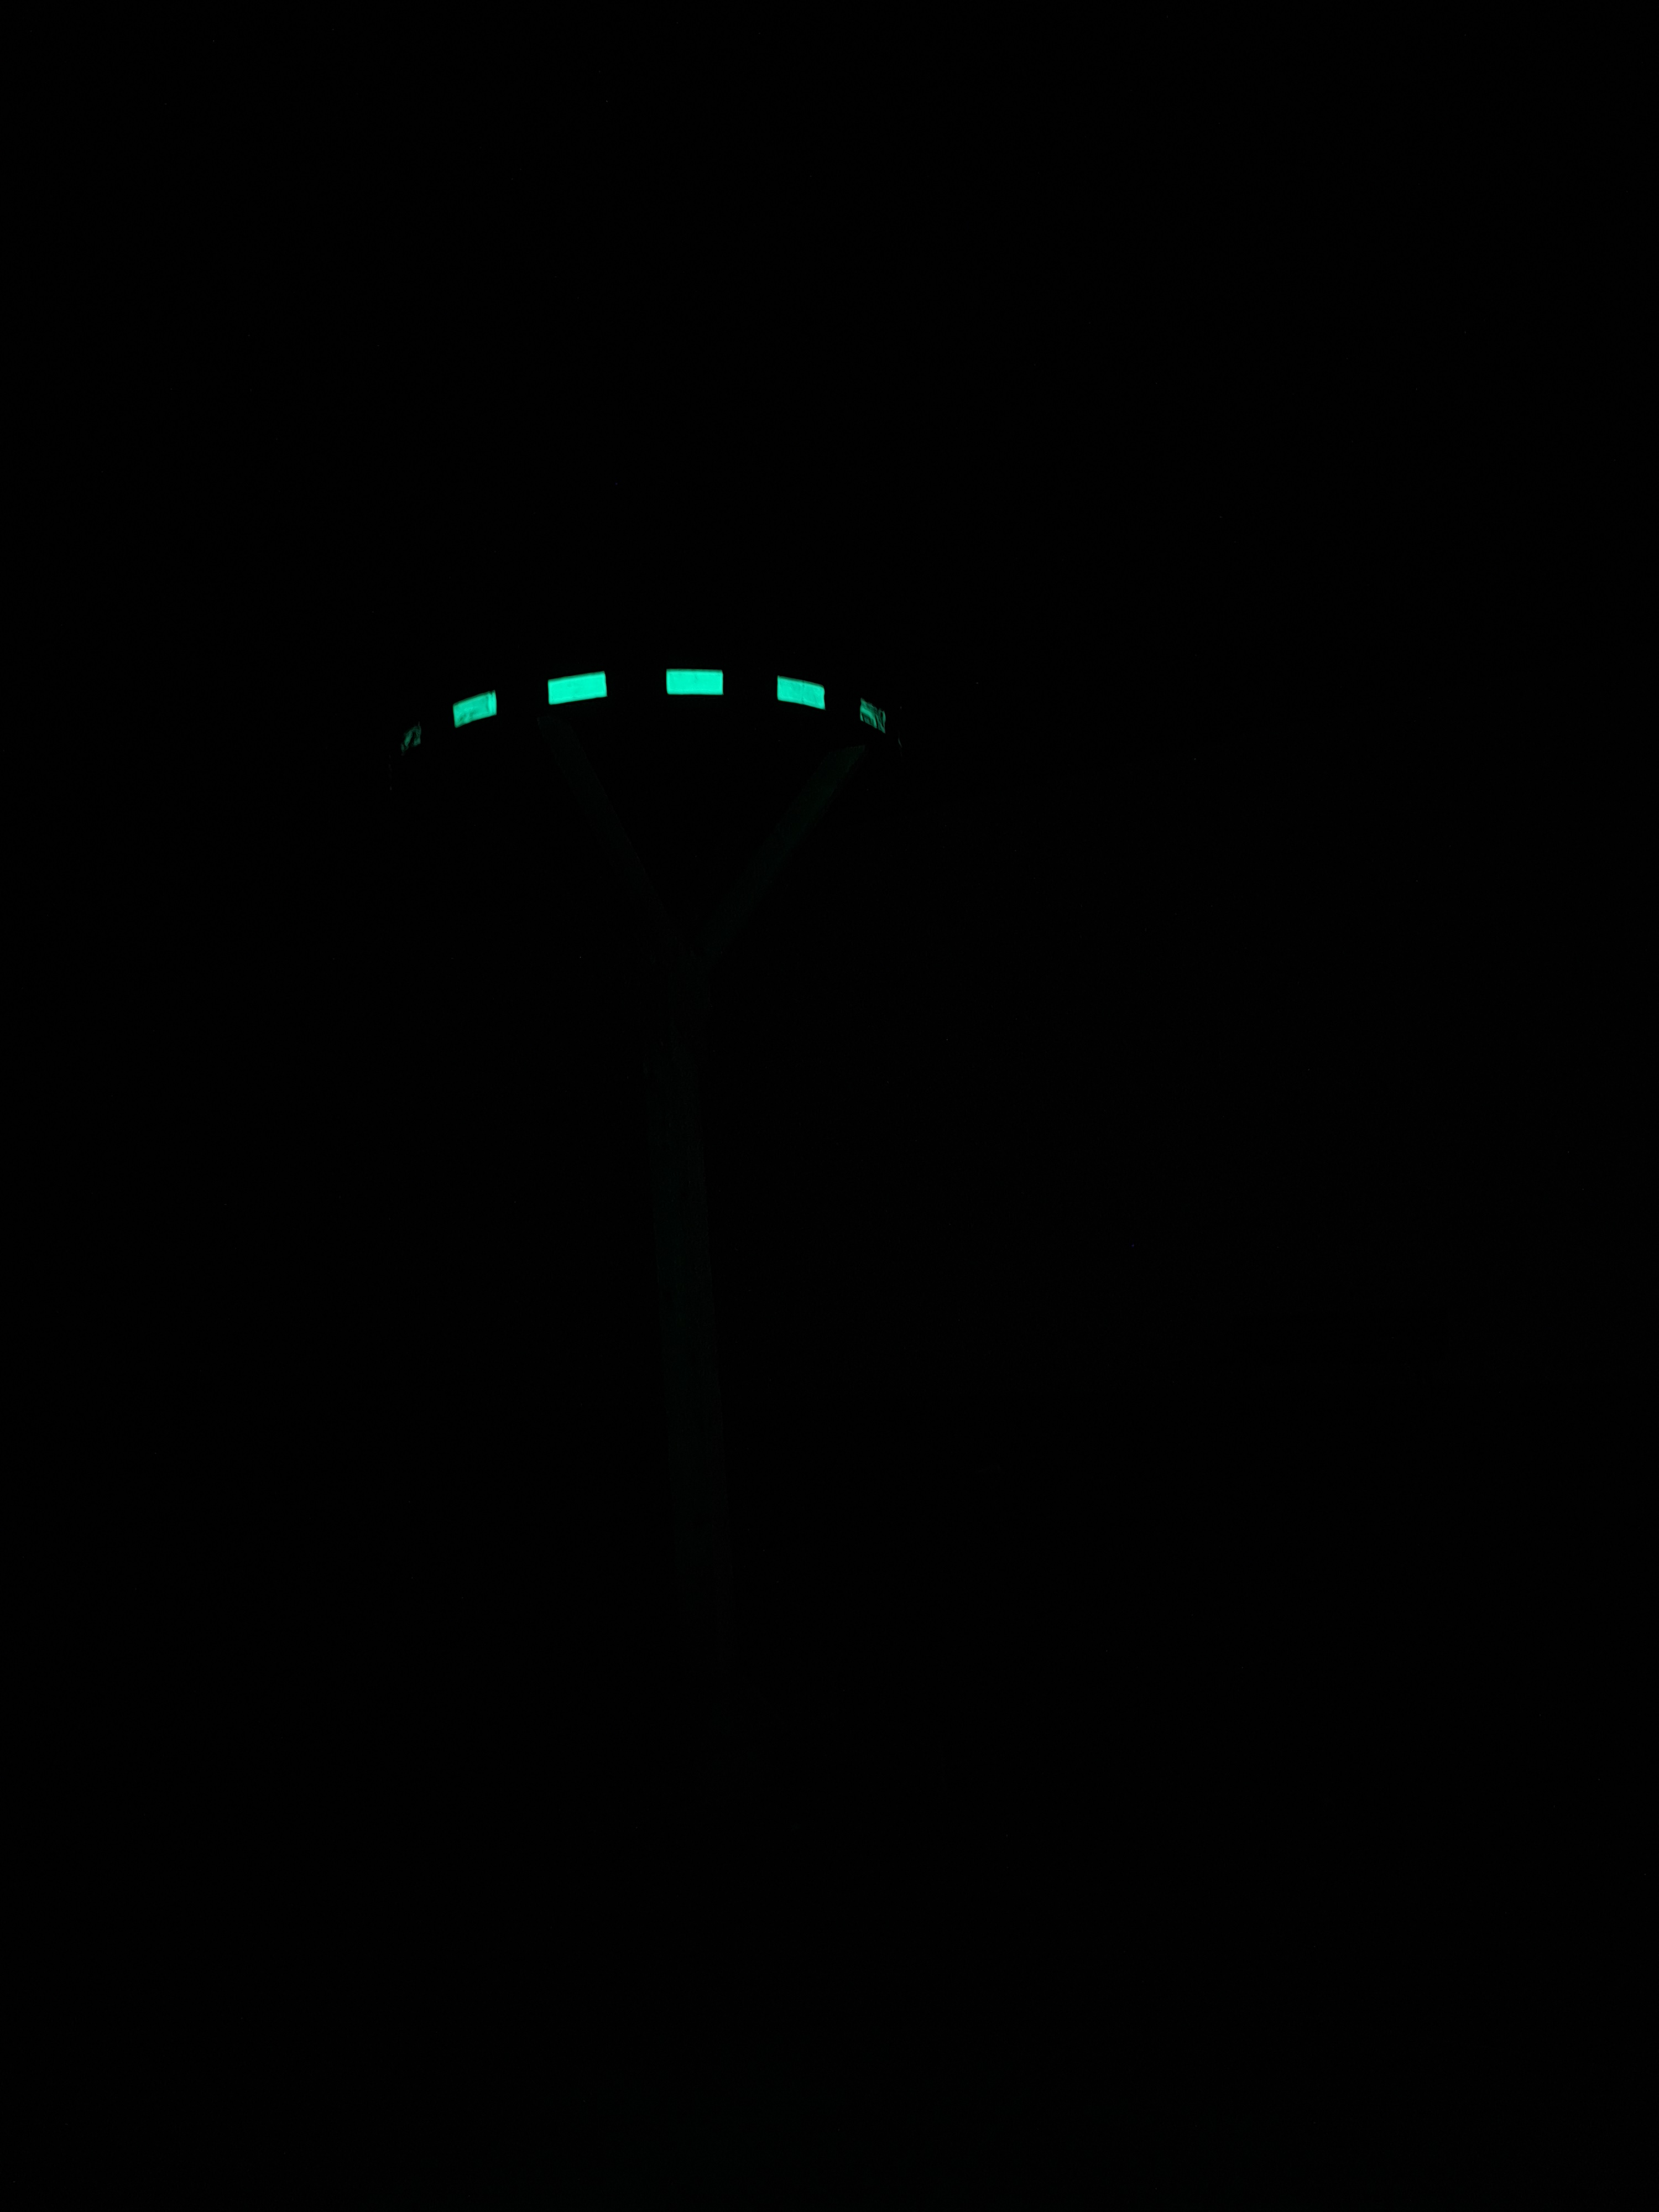hoop: (385, 665, 889, 752)
